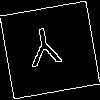Y: (25, 25, 65, 78)
